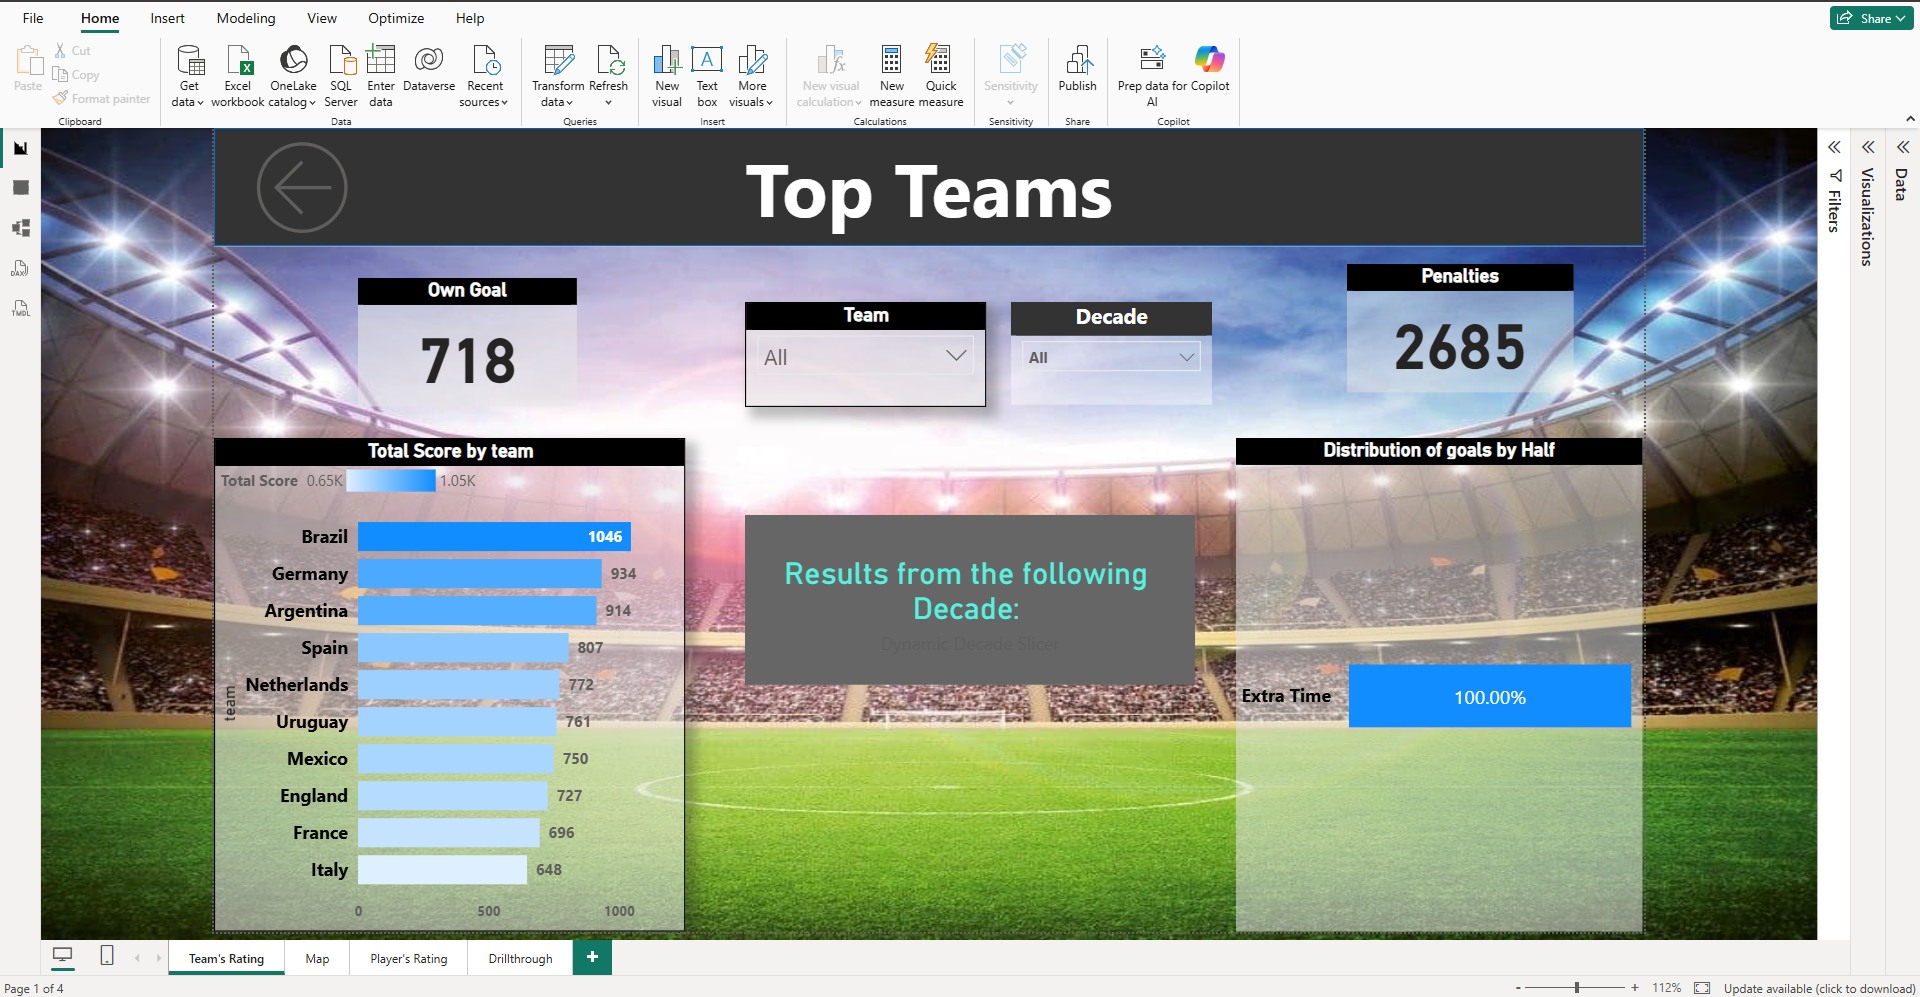

What the dashboard file says about the page in this screenshot:
{"tool":"powerbi","page":{"name":"Team's Rating","canvas":[1280,720],"ordinal":0},"visuals":[{"type":"clusteredBarChart","fields":{"Y":["goalscorers.Total Score"],"Category":["goalscorers.team"]},"box":[0,277.4,422.3,441.8],"z":0},{"type":"card","title":"Own Goal","fields":{"Values":["Sum(goalscorers.Own_goal_numeric)"]},"box":[129,134.3,196.1,114.9],"z":1000},{"type":"card","title":"Penalties","fields":{"Values":["Sum(goalscorers.Penalty_numeric)"]},"box":[1014.3,121.9,203.2,114.9],"z":2000},{"type":"funnel","title":"Distribution of goals by Half","fields":{"Category":["goalscorers.Half"],"Y":["goalscorers.Total Score"]},"box":[915.3,277.4,364,441.8],"z":3000},{"type":"slicer","title":"Team","fields":{"Values":["goalscorers.team"]},"box":[475.3,155.5,215.6,93.7],"z":4000},{"type":"slicer","title":"Decade","fields":{"Values":["goalscorers.Year Bins"]},"box":[713.9,155.5,180.2,91.9],"z":5000},{"type":"shape","title":"Top Scorers","box":[0,0,1280.7,105.7],"z":6000},{"type":"actionButton","box":[28.3,0,100.7,106],"z":7000},{"type":"card","fields":{"Values":["DecadeLookup.Dynamic Decade Slicer"]},"box":[475.3,346.3,402.9,152],"z":8000}]}

Visuals, with their boxes on the page's 1280x720 design canvas (x1, y1, x2, y2). These are canvas units, not pixel positions in the 1920x997 screenshot, which may show the page scaled, cropped or inside an application window:
clusteredBarChart - goalscorers.Total Score x goalscorers.team: (left=0, top=277, right=422, bottom=719)
"Own Goal" card: (left=129, top=134, right=325, bottom=249)
"Penalties" card: (left=1014, top=122, right=1218, bottom=237)
"Distribution of goals by Half" funnel: (left=915, top=277, right=1279, bottom=719)
"Team" slicer: (left=475, top=156, right=691, bottom=249)
"Decade" slicer: (left=714, top=156, right=894, bottom=247)
"Top Scorers" shape: (left=0, top=0, right=1281, bottom=106)
actionButton: (left=28, top=0, right=129, bottom=106)
card - DecadeLookup.Dynamic Decade Slicer: (left=475, top=346, right=878, bottom=498)
